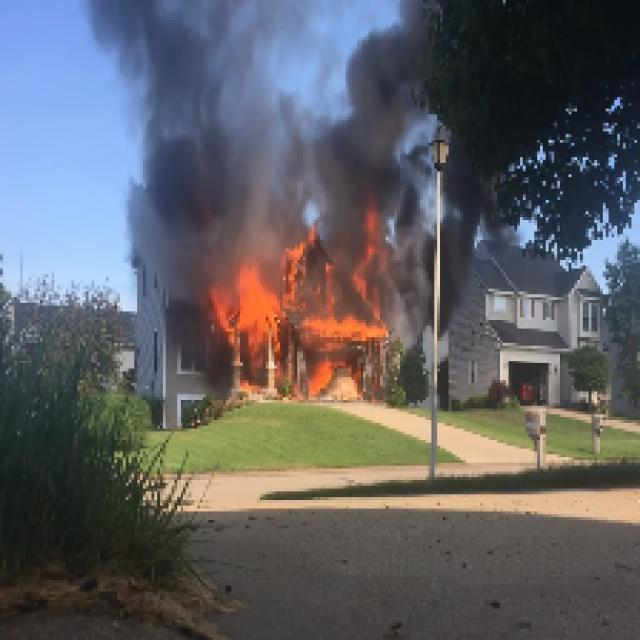Fire: (220, 271, 386, 343)
Smoke: (111, 2, 303, 238), (312, 3, 432, 214), (388, 228, 432, 346)
